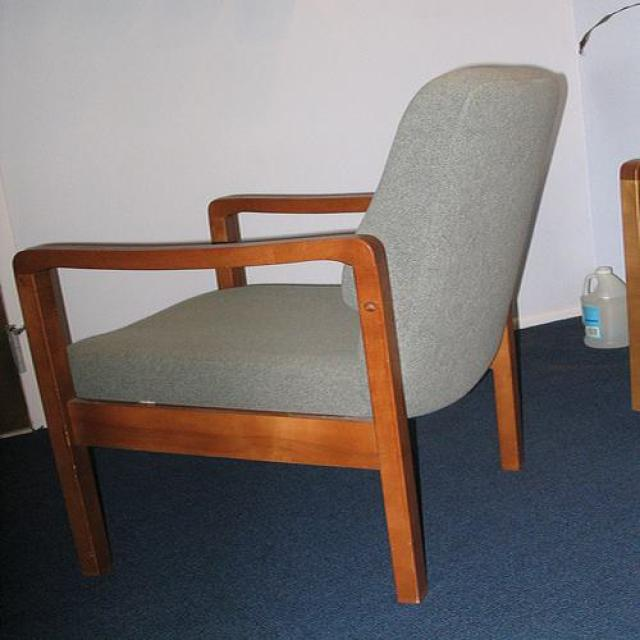chair: (13, 64, 570, 607)
